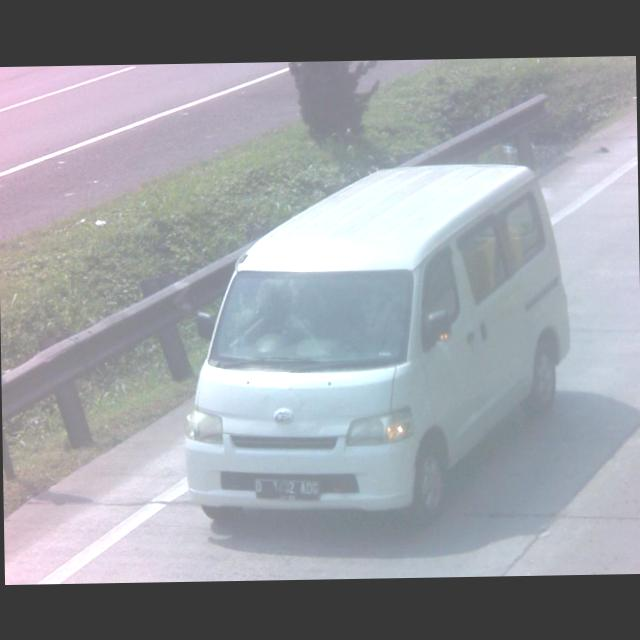plate: (252, 476, 320, 503)
